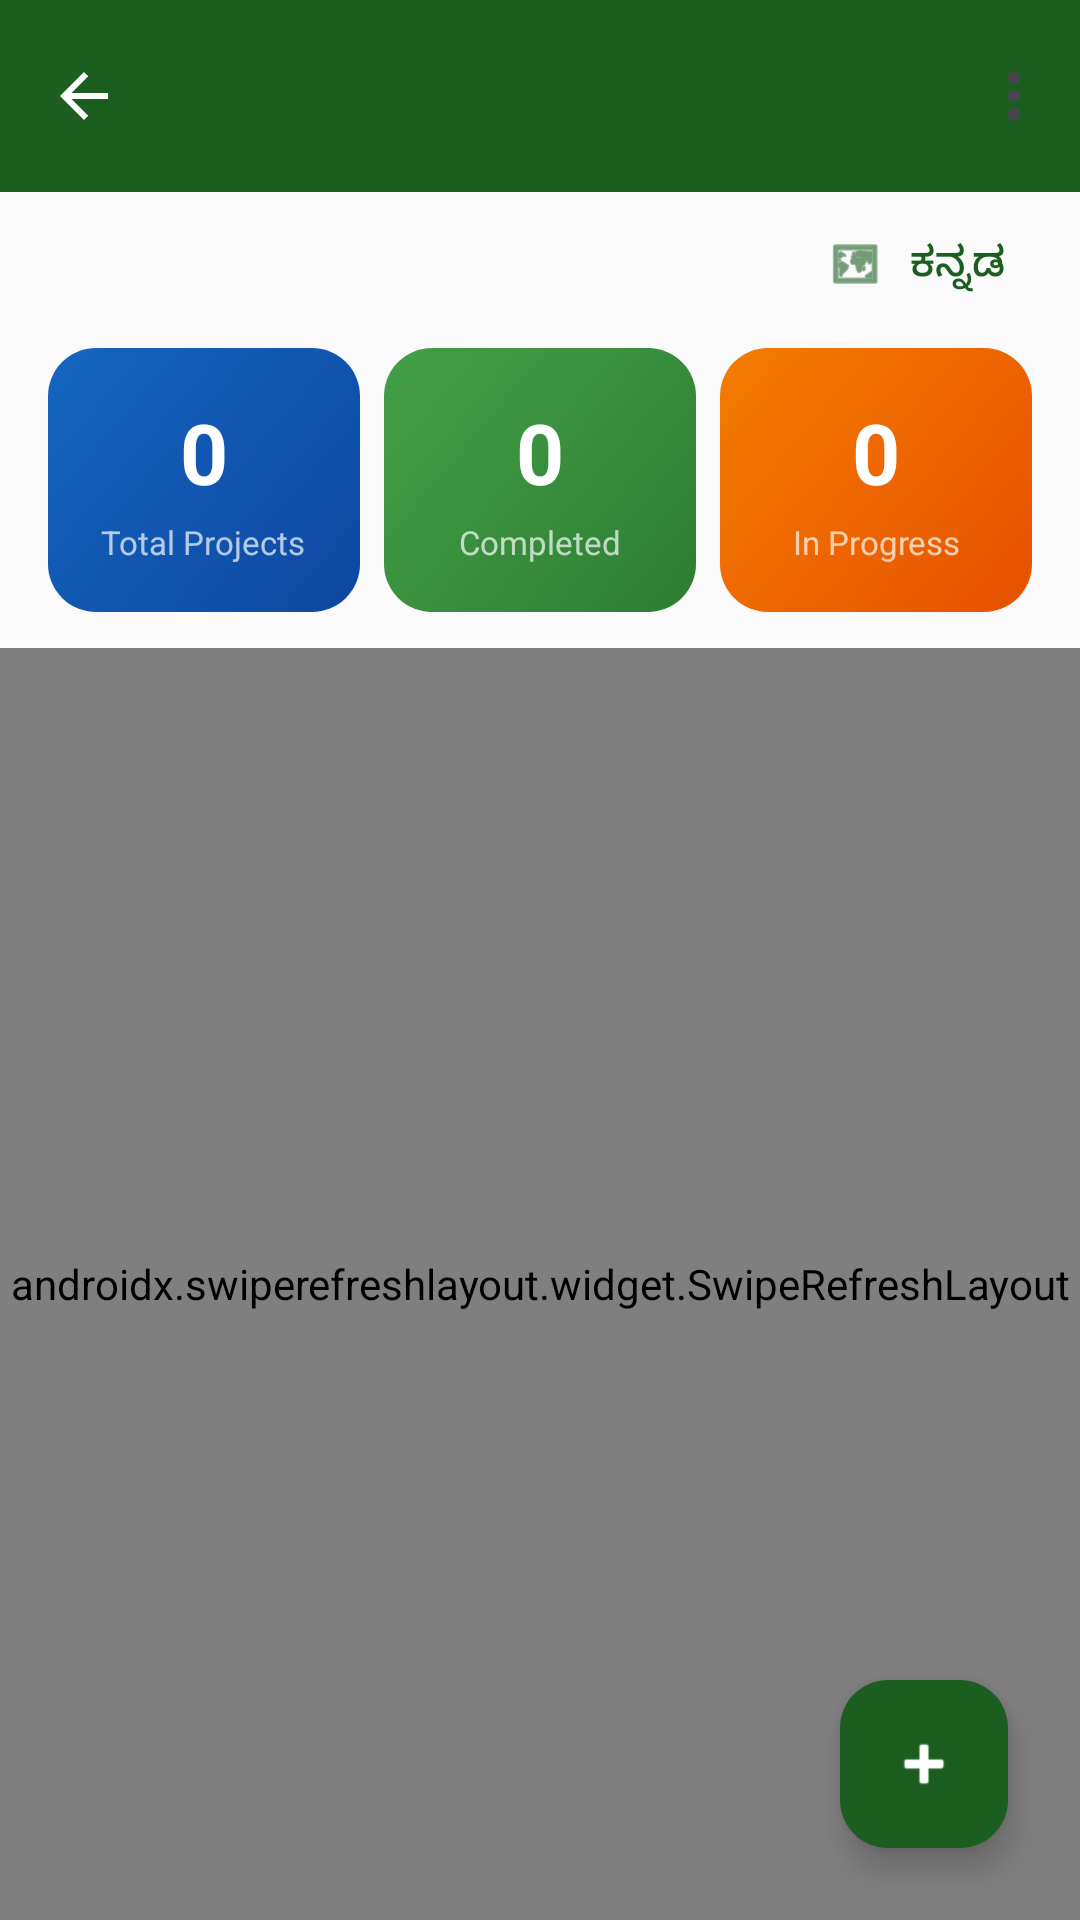

Icon click points for this 1080px x 1920px phone screenshot, format point (x, y):
Add New Project: point (924, 1764)
